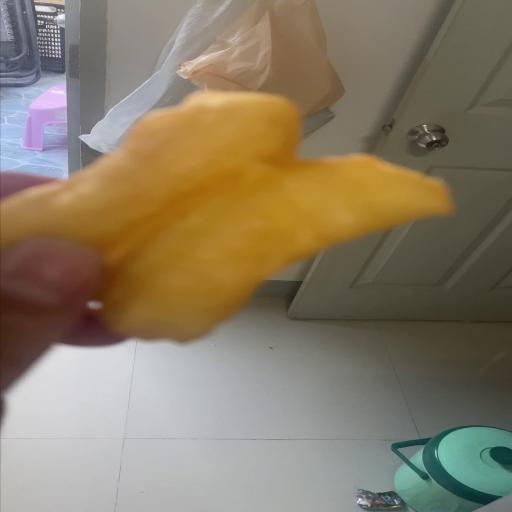street_golden_good: (0, 91, 452, 342)
